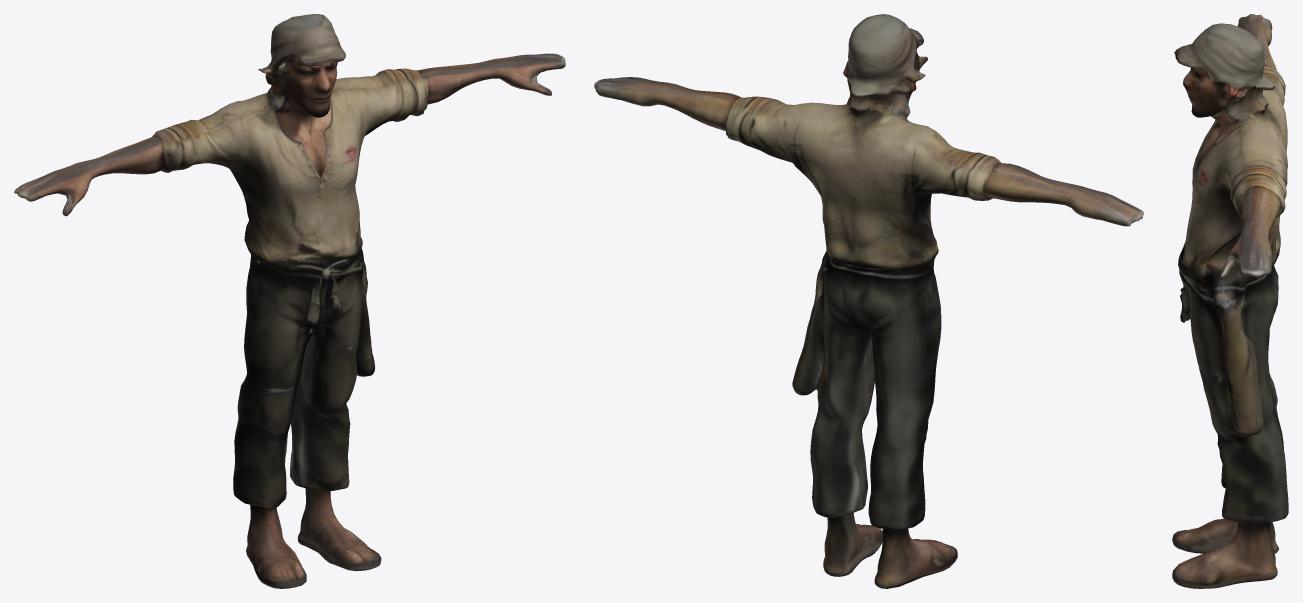
File: Chaser.fbx
3 renders of one model, left to right at view 1: azimuth 30°, elevation 25°; view 2: azimuth 150°, elevation 25°; view 3: azimuth 270°, elevation 25°, orthographic.
Parts seen in each view (by area): view 1: Mesh1.0; view 2: Mesh1.0; view 3: Mesh1.0.
Part boxes in pixels (<box>): Mesh1.0: <box>14,14,565,588</box>; Mesh1.0: <box>594,14,1143,588</box>; Mesh1.0: <box>1172,14,1288,588</box>.
Bounding box in the file's own units: 199 × 189 × 37.25.
Materials: 1 (1 with a texture image).
